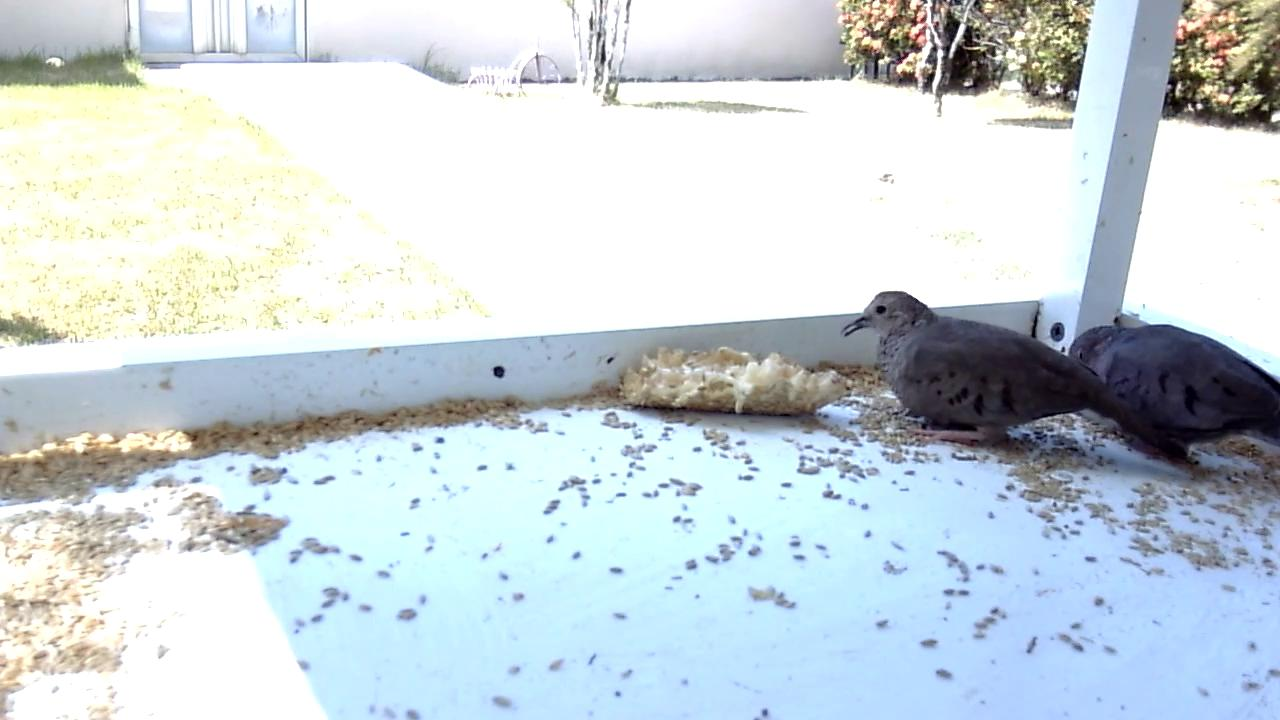rolinha: (839, 288, 1189, 463), (1070, 325, 1280, 451)
